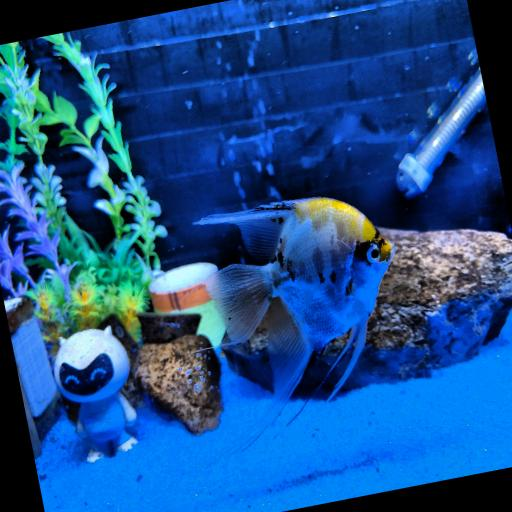Fish: (196, 198, 394, 447)
